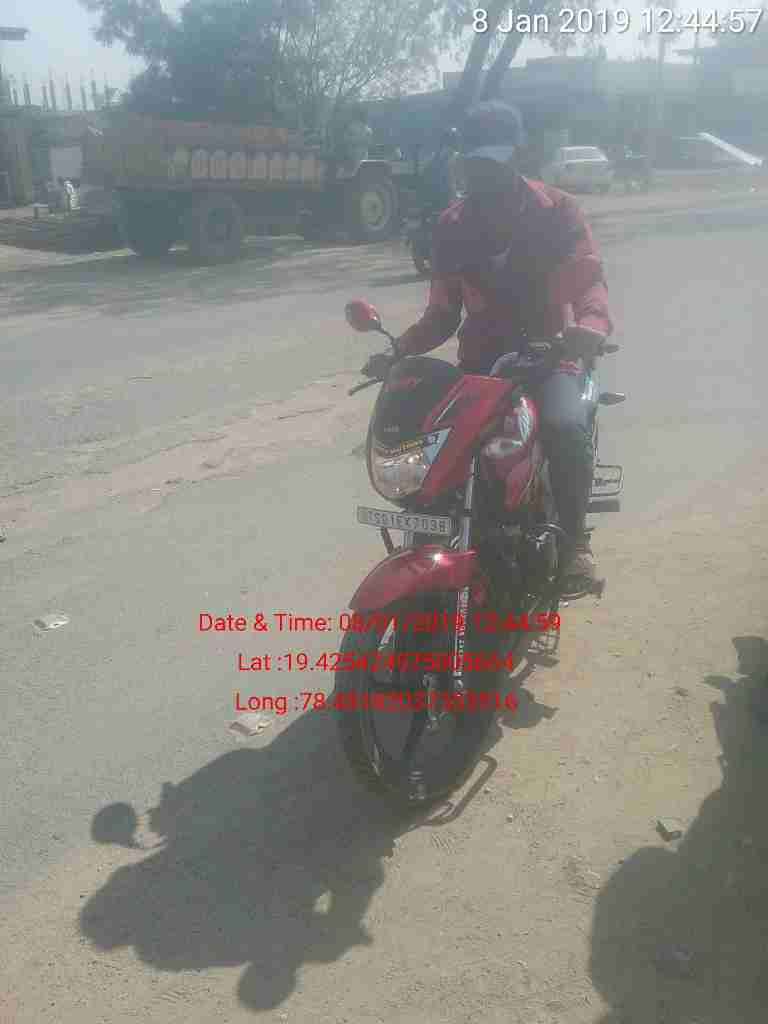plate: (349, 500, 455, 544)
